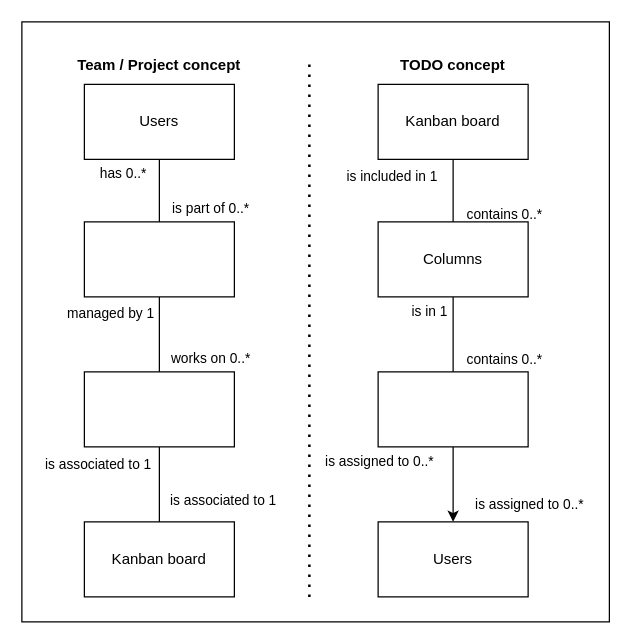
Image size: 631x644. Some labels were removed from this diagram. Each missing label, with the centre of its shape:
"Projects" goes at (158,409).
"Task" goes at (452,409).
"Team" goes at (158,259).
